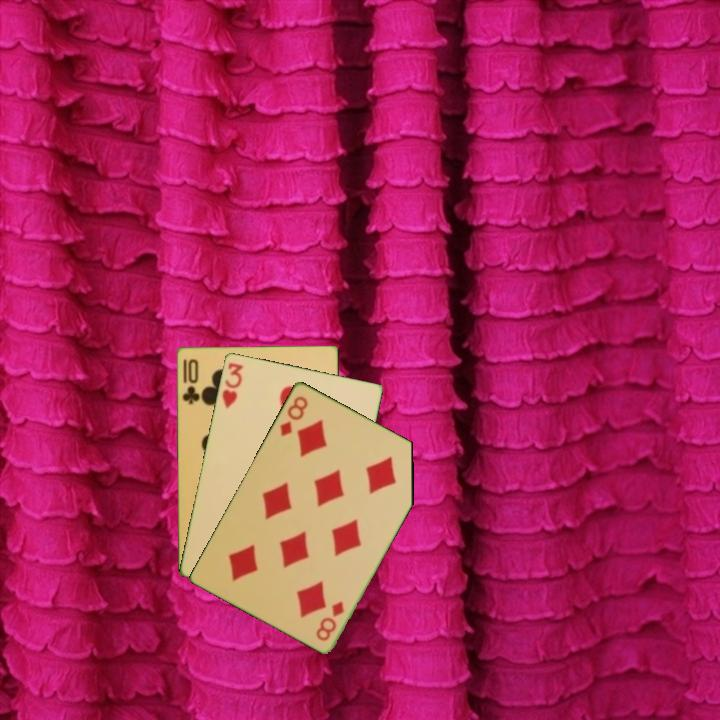10c: (179, 355, 202, 406)
3h: (218, 359, 246, 411)
8d: (276, 392, 311, 439), (312, 597, 347, 644)
